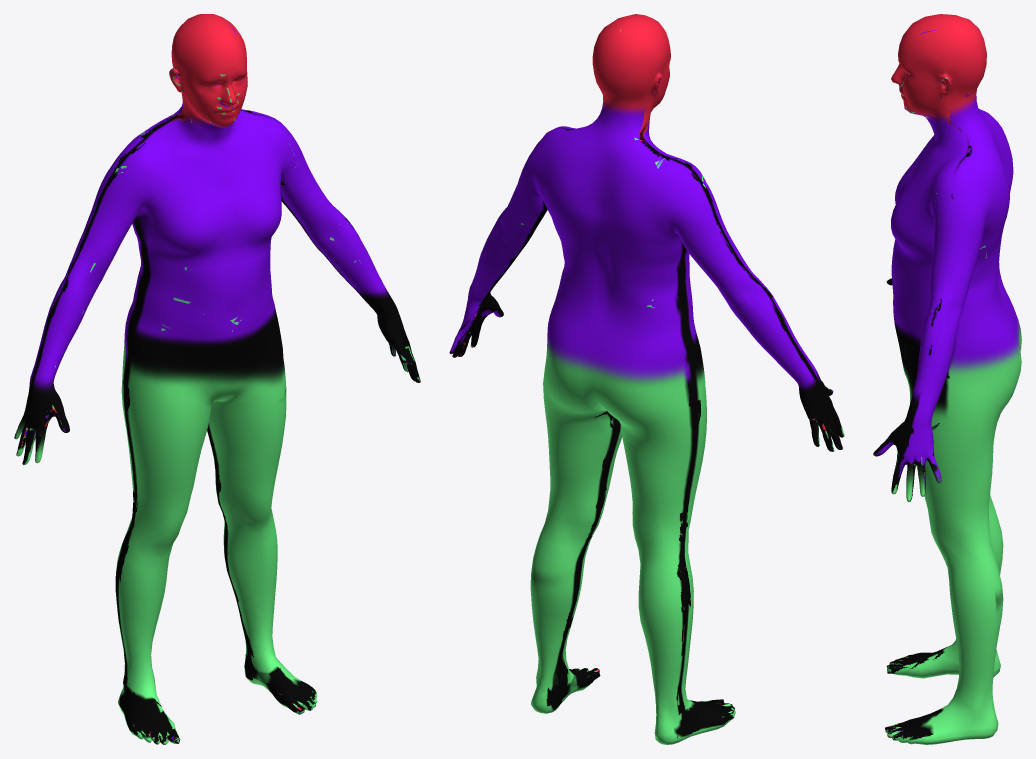
File: smpl_flipped_normal.obj
3 views of the same model, side by side, from view 1: azimuth 30°, elevation 25°; view 2: azimuth 150°, elevation 25°; view 3: azimuth 270°, elevation 25° (orthographic).
Visible parts, largest first — view 1: SMPL_APose; view 2: SMPL_APose; view 3: SMPL_APose.
Part boxes in pixels (left/top/right/bottom): SMPL_APose: left=14, top=14, right=420, bottom=744; SMPL_APose: left=449, top=14, right=844, bottom=744; SMPL_APose: left=873, top=14, right=1021, bottom=744.
Bounding box in the file's own units: 1.01 × 1.71 × 0.3352.
